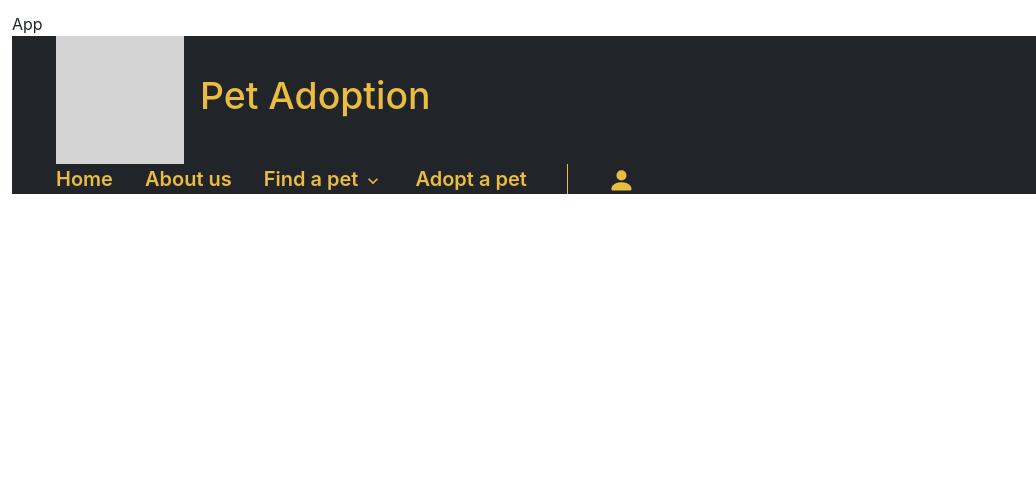
Scenario: <Header /> › when user is logged in › and user have USER role › clicking on user icon › shows the correct content
The width and height of the screenshot is (1036, 479).
Click the icon with test id "userIcon" at (621, 181), box [608,167,635,194]
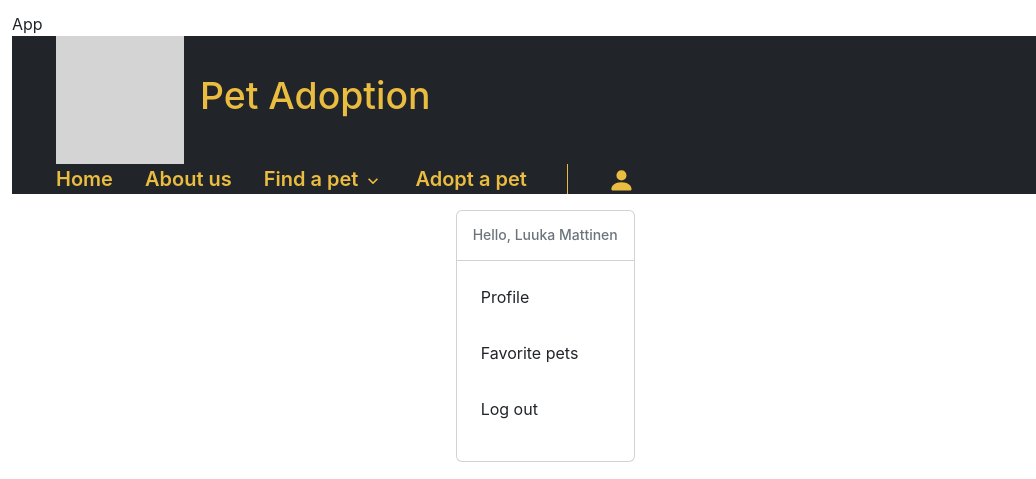
Now the link "Profile" is shown, box [481,287,529,307]
Now the link "Favorite pets" is shown, box [481,343,578,363]
Now the button "Log out" is shown, box [481,399,538,419]
